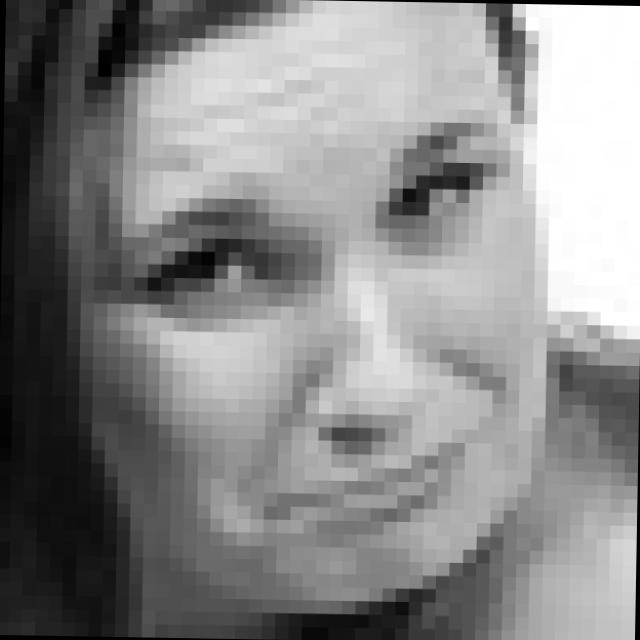sad: (103, 109, 508, 540)
